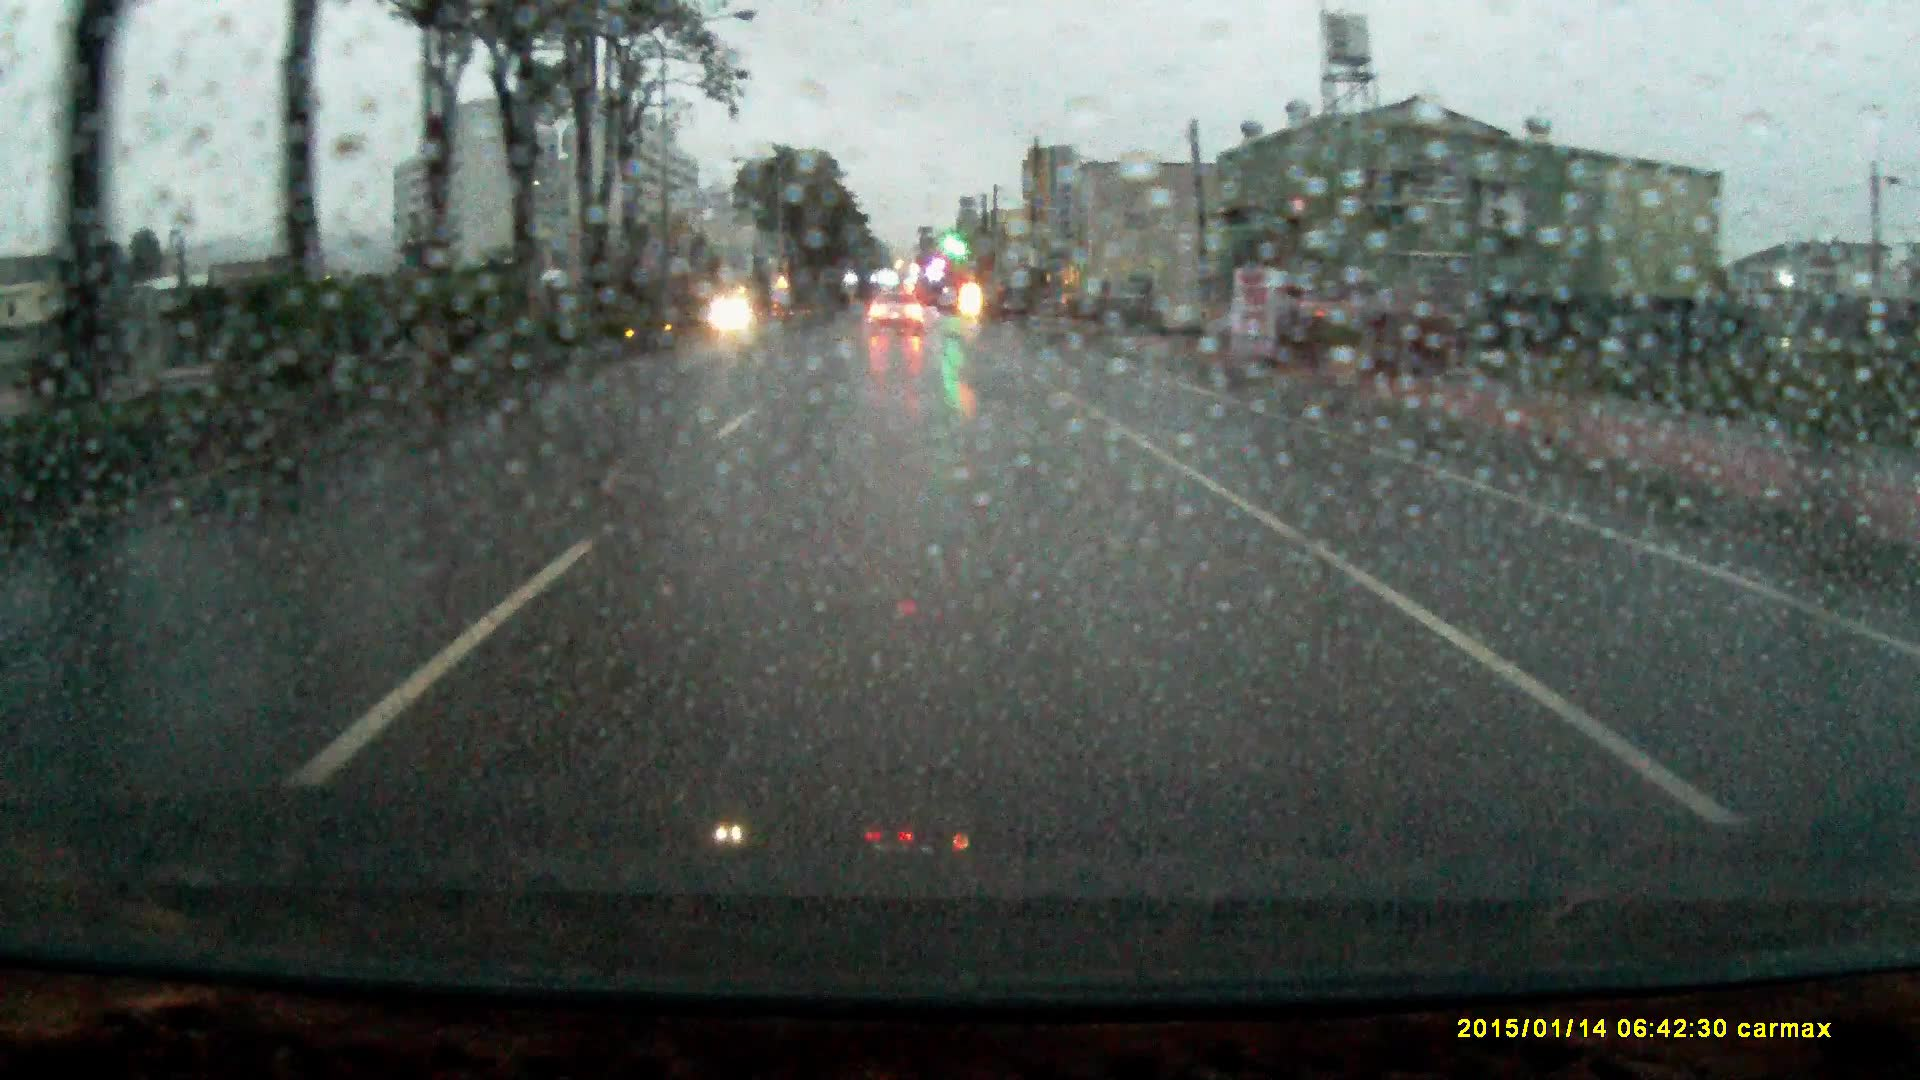vehicle: (869, 297, 924, 339)
